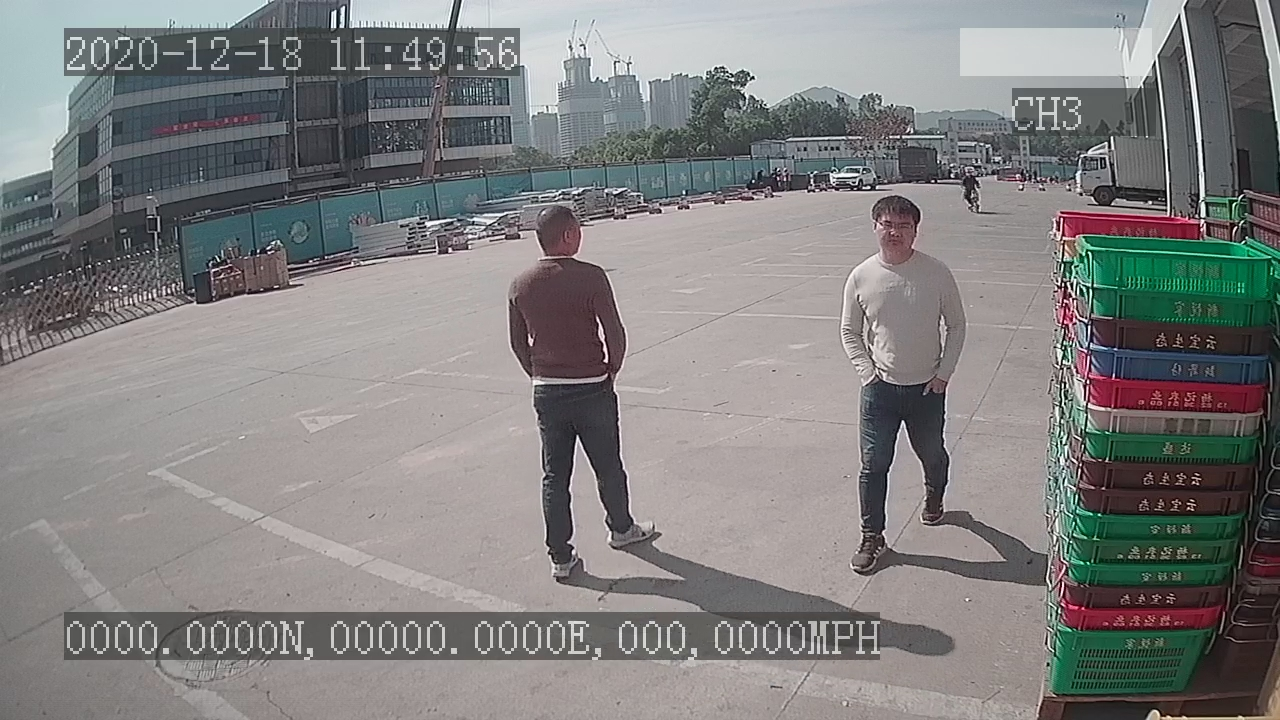person: (497, 201, 672, 585), (831, 192, 972, 576)
